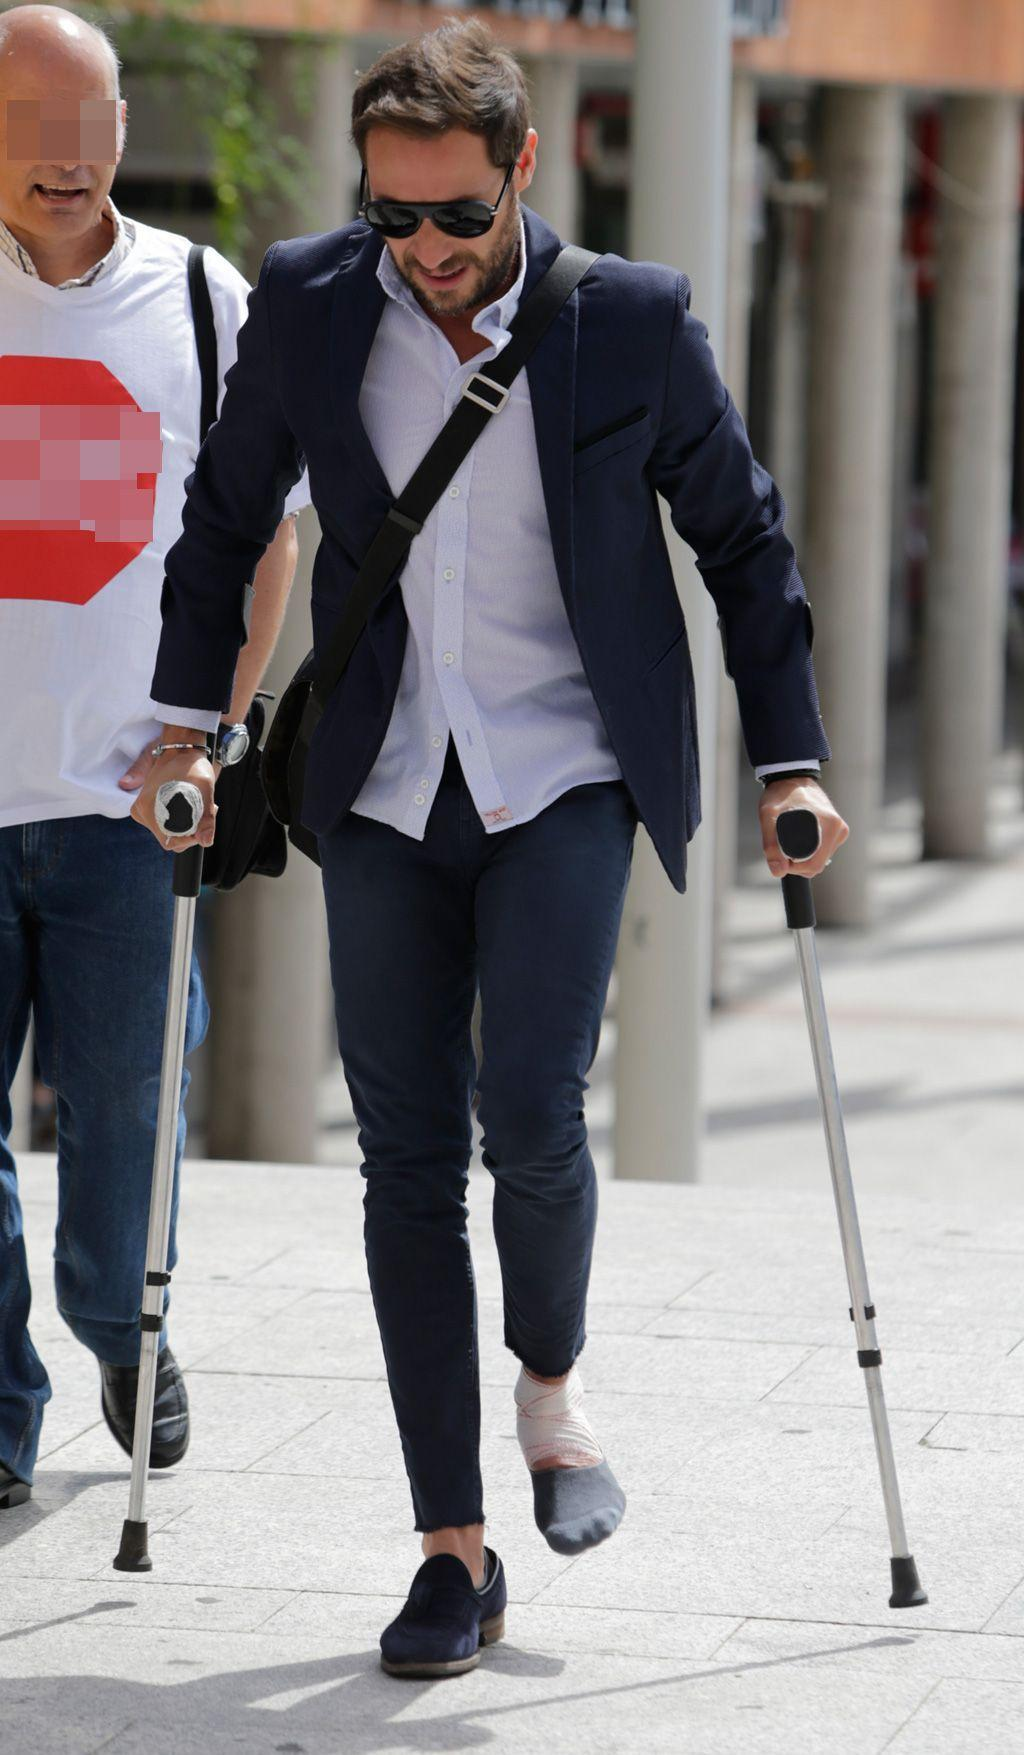crutches: (121, 40, 930, 1679)
